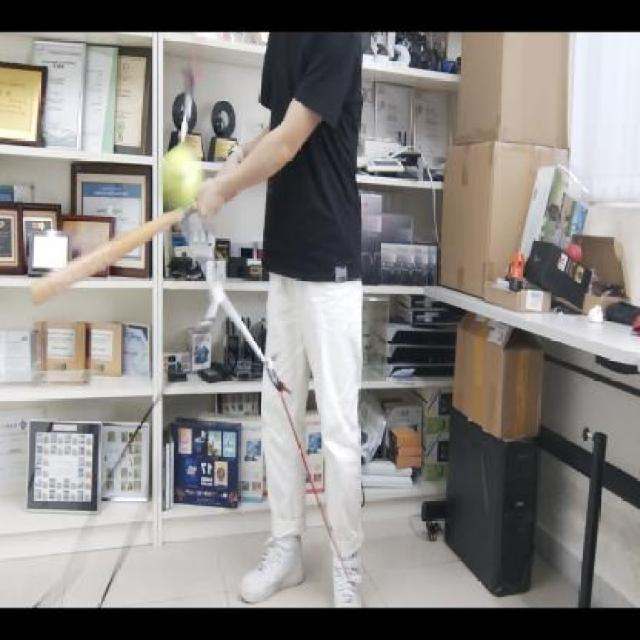baseball: (157, 143, 200, 205)
